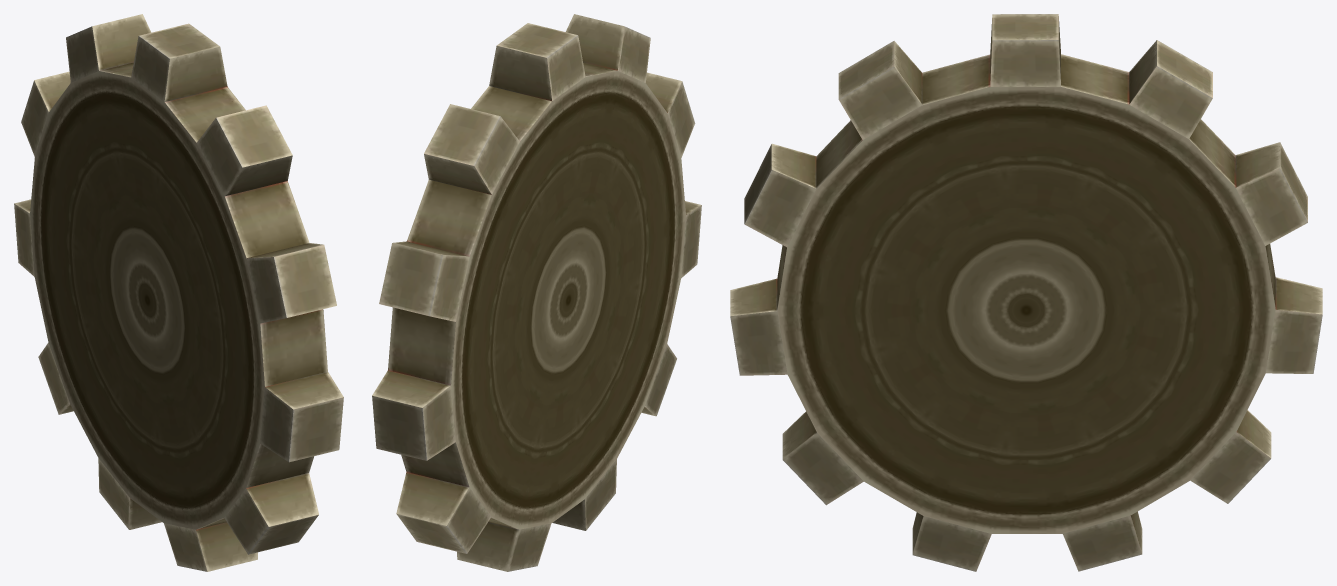
3 views of the same model, side by side, from view 1: azimuth 30°, elevation 25°; view 2: azimuth 150°, elevation 25°; view 3: azimuth 270°, elevation 25° (orthographic). The views are drawn at different scales.
Bounding box in the file's own units: 0.4635 × 3.52 × 3.56.
1 material, 1 textured.
